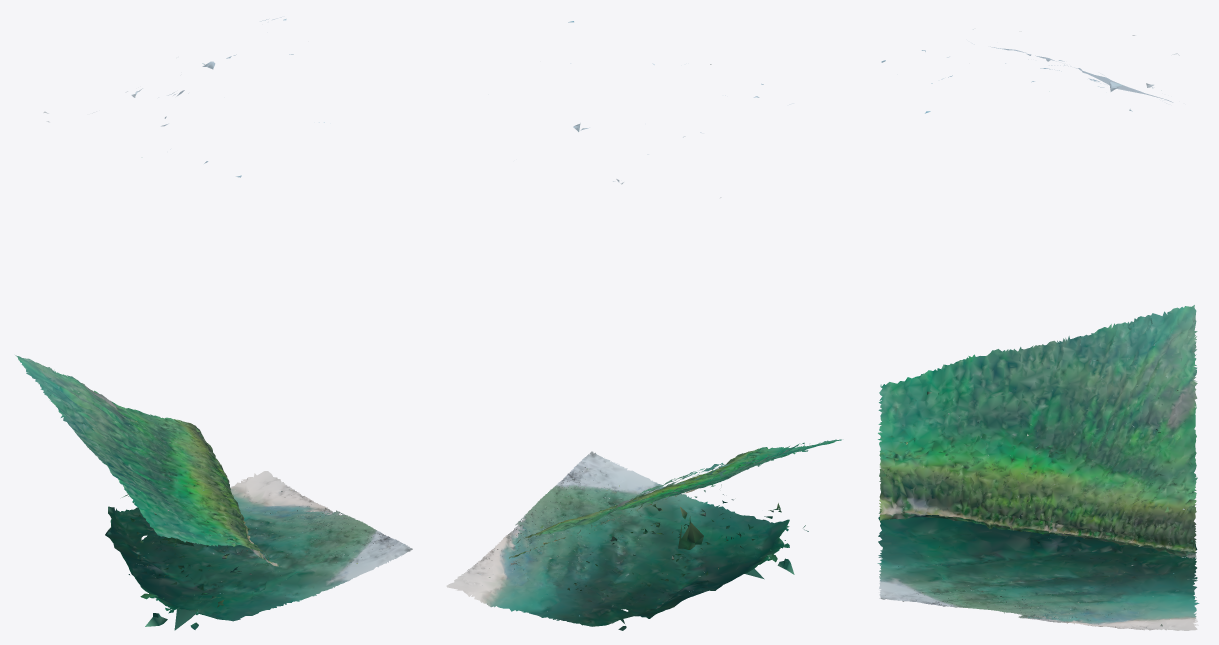
File: lakeside.glb
3 renders of one model, left to right at view 1: azimuth 30°, elevation 25°; view 2: azimuth 150°, elevation 25°; view 3: azimuth 270°, elevation 25°, orthographic. The views are drawn at different scales.
Parts seen in each view (by area): view 1: decimated_mesh; view 2: decimated_mesh; view 3: decimated_mesh.
Part boxes in pixels (x1,y1,x2,y2): decimated_mesh: (15,17,412,630); decimated_mesh: (446,21,841,630); decimated_mesh: (877,29,1199,630).
Bounding box in the file's own units: 319 × 580 × 316.
